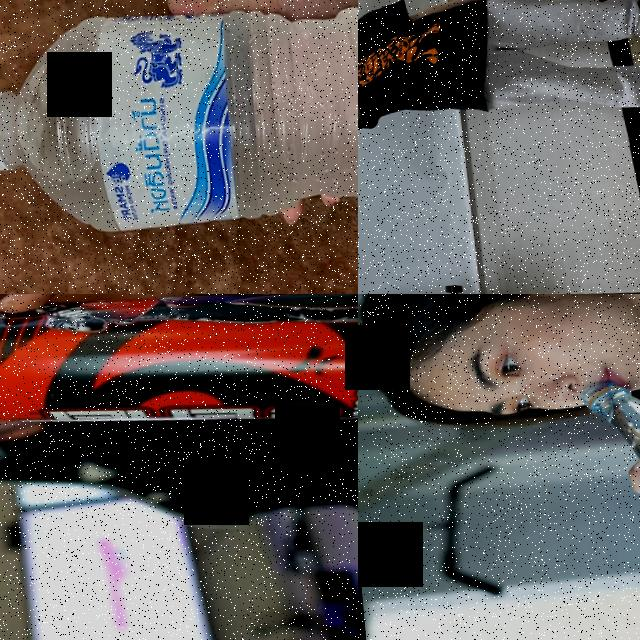bottle: (0, 0, 358, 244), (574, 360, 640, 566)
can: (0, 294, 358, 461)
